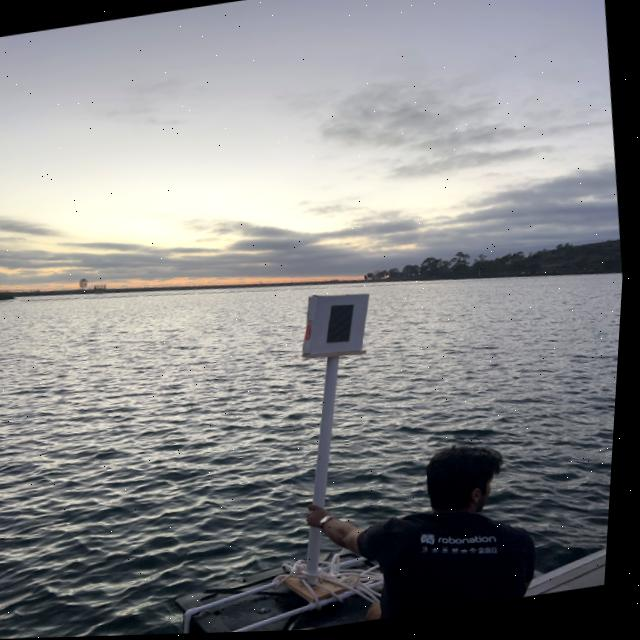led: (318, 292, 373, 360)
